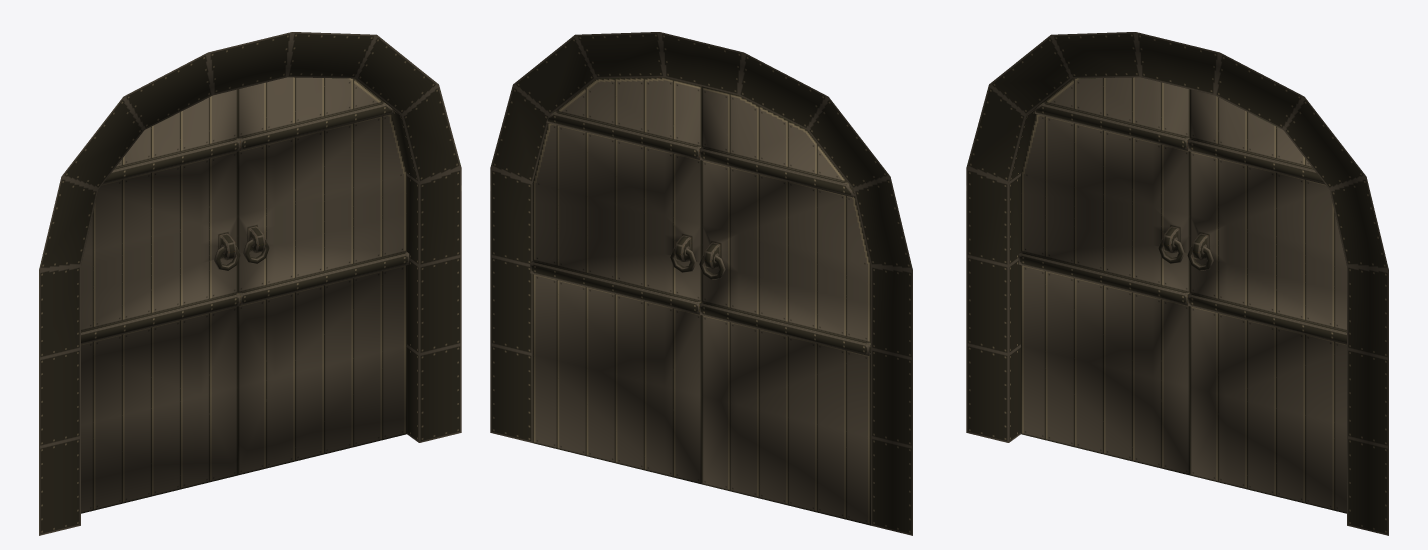
File: Door.fbx
The picture shows the model from 3 angles, left to right: view 1: azimuth 30°, elevation 25°; view 2: azimuth 150°, elevation 25°; view 3: azimuth 330°, elevation 25°; orthographic projection.
Parts seen in each view (by area): view 1: Door, Door.001, beam; view 2: Door.001, Door, beam; view 3: Door.001, Door, beam.
Part boxes in pixels (<box>): Door: <box>238,77,409,475</box>; Door.001: <box>81,89,240,513</box>; beam: <box>39,32,461,535</box>; Door.001: <box>699,86,870,525</box>; Door: <box>530,77,701,484</box>; beam: <box>490,32,912,535</box>; Door.001: <box>1018,77,1189,475</box>; Door: <box>1187,89,1346,513</box>; beam: <box>966,32,1388,535</box>.
Size of the model in its own units: 1000 by 1000 by 138.
